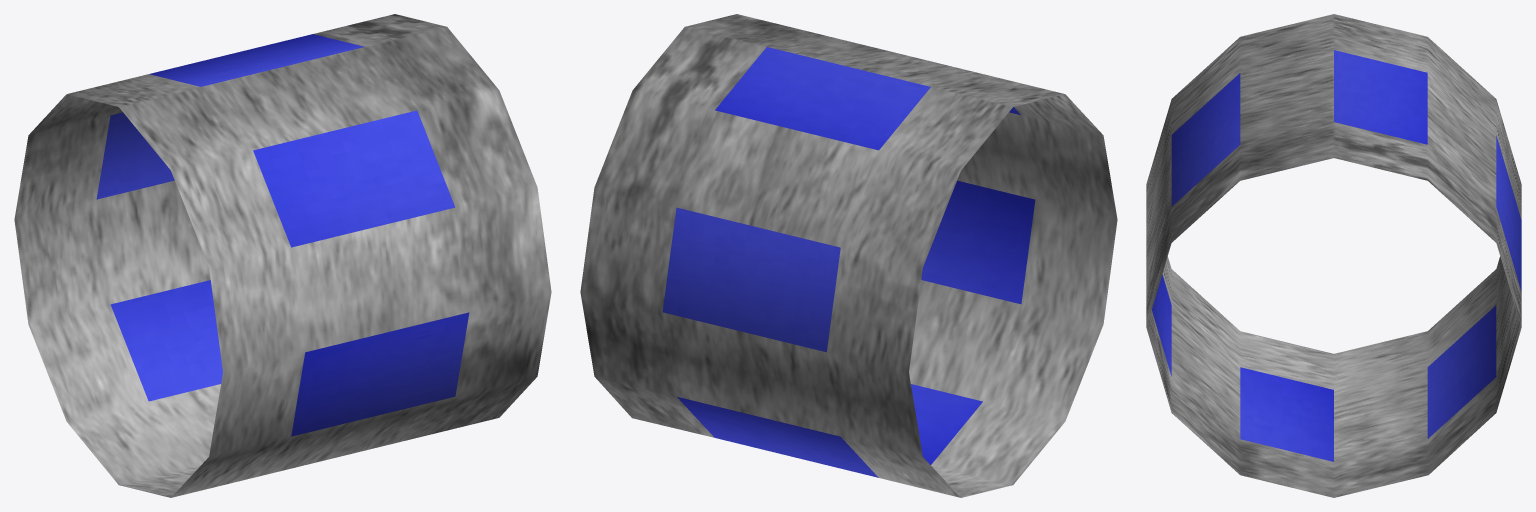
Rendered from WallGunPt6.obj.
The picture shows the model from 3 angles, left to right: view 1: azimuth 30°, elevation 25°; view 2: azimuth 150°, elevation 25°; view 3: azimuth 270°, elevation 25°; orthographic projection. The views are drawn at different scales.
Parts seen in each view (by area): view 1: Cube.003; view 2: Cube.003; view 3: Cube.003.
Part boxes in pixels (<box>): Cube.003: <box>14,14,551,497</box>; Cube.003: <box>580,14,1117,497</box>; Cube.003: <box>1146,14,1521,497</box>.
Size of the model in its own units: 2 by 2.2 by 2.2.
